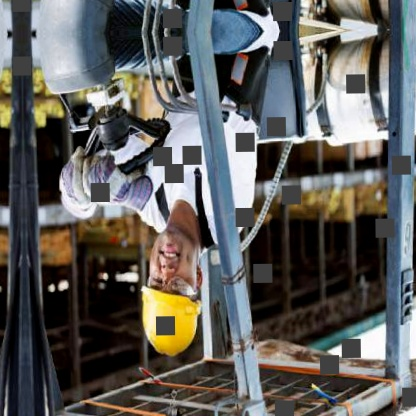yellow: (133, 282, 208, 361)
